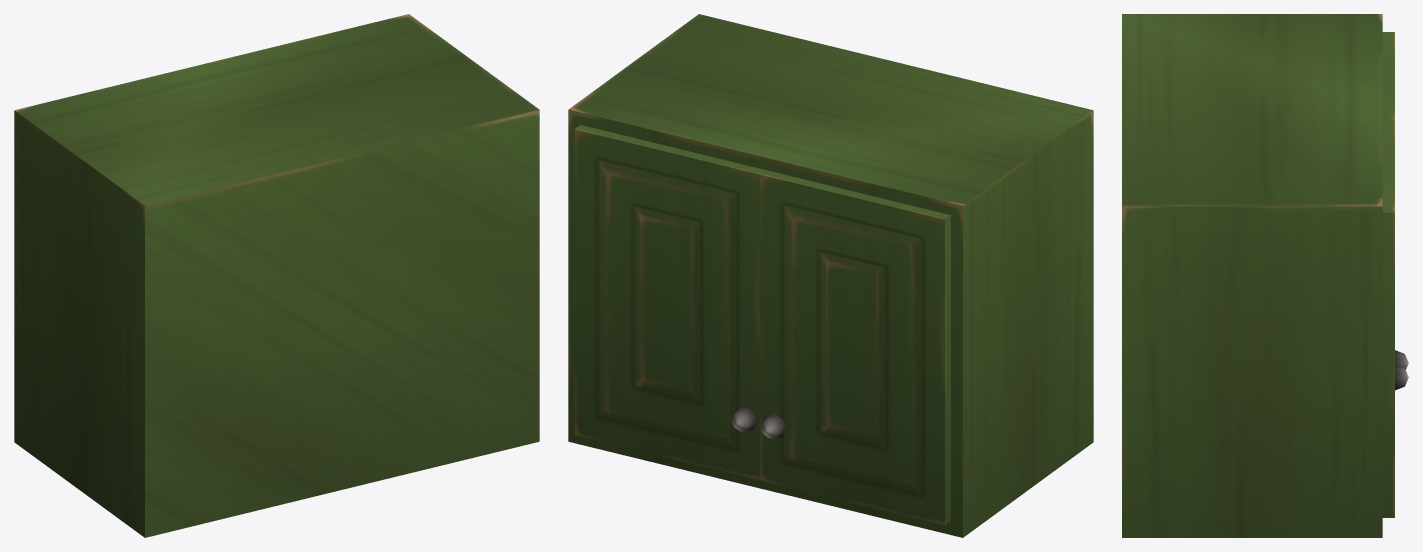
Rendered from FUR0110012.fbx.
3 views of the same model, side by side, from view 1: azimuth 30°, elevation 25°; view 2: azimuth 150°, elevation 25°; view 3: azimuth 270°, elevation 25° (orthographic).
Visible parts, largest first — view 1: smFUR0110012; view 2: smFUR0110012; view 3: smFUR0110012.
Part boxes in pixels (left/top/right/bottom): smFUR0110012: left=14, top=14, right=539, bottom=537; smFUR0110012: left=568, top=14, right=1093, bottom=537; smFUR0110012: left=1122, top=14, right=1408, bottom=537.
Bounding box in the file's own units: 109 × 87.93 × 68.9.
1 material, 1 textured.
